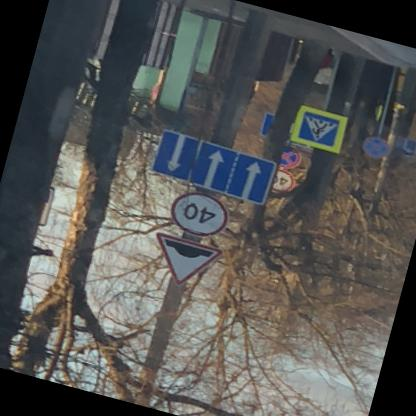crosswalk: (298, 112, 343, 150)
speedlimit: (166, 189, 234, 244), (272, 170, 298, 198)
